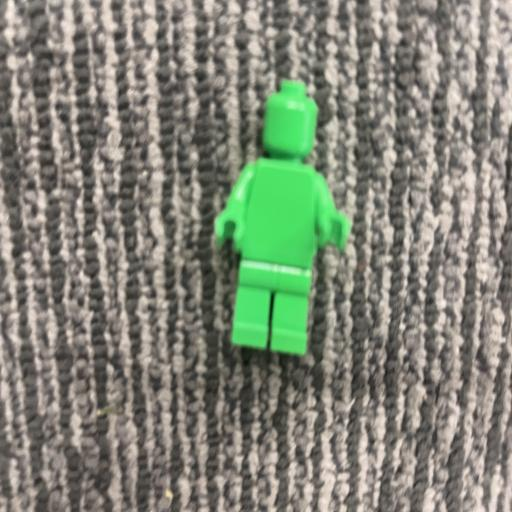Lego-Minifig: (215, 80, 351, 355)
